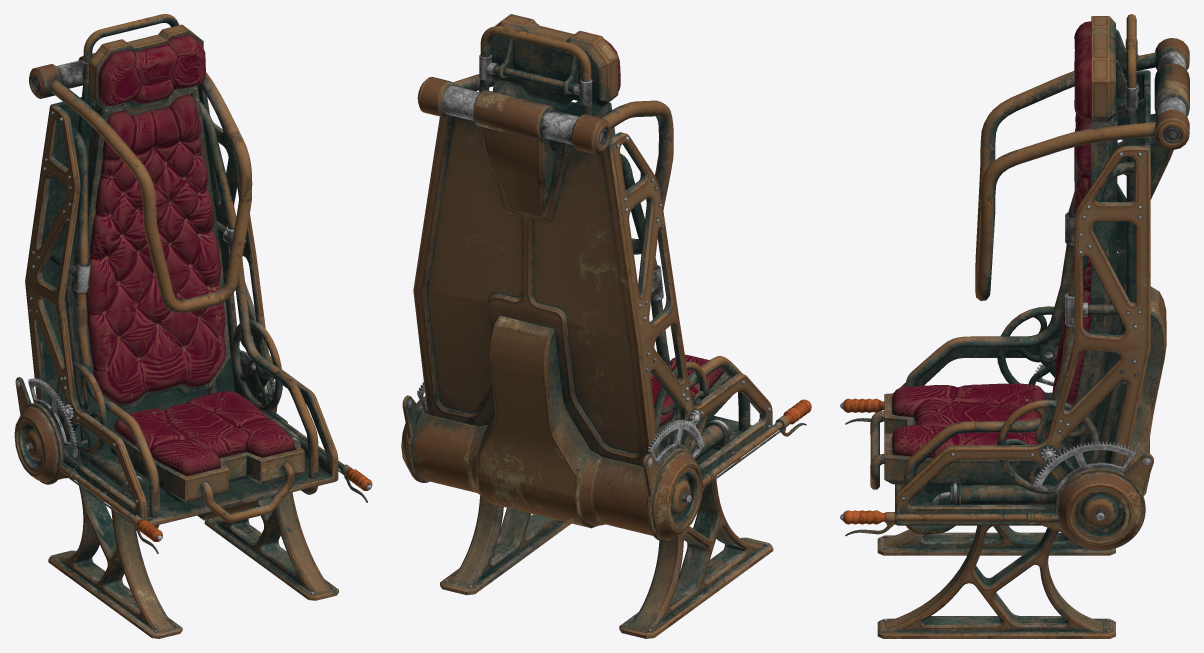
The model's file is SteamPunkChair.obj.
3 views of the same model, side by side, from view 1: azimuth 30°, elevation 25°; view 2: azimuth 150°, elevation 25°; view 3: azimuth 270°, elevation 25° (orthographic). The views are drawn at different scales.
Visible parts, largest first — view 1: Base_Low, Pillow_Low, Detail_Low, Anschnaller, StellRad, Hebel_Low, Hebel, StellNehmer; view 2: Base_Low, Hebel_Low, Anschnaller, Detail_Low, Hebel, StellRad, StellNehmer, Pillow_Low; view 3: Base_Low, Detail_Low, Pillow_Low, Hebel_Low, Anschnaller, Hebel, StellRad, StellNehmer.
Boxes of the visible parts, box(x1,y1,x2,y2) form: Base_Low: box(25, 24, 338, 638); Pillow_Low: box(86, 34, 294, 476); Detail_Low: box(49, 14, 318, 528); Anschnaller: box(29, 59, 252, 313); StellRad: box(56, 319, 282, 454); Hebel_Low: box(14, 53, 277, 520); Hebel: box(15, 348, 372, 541); StellNehmer: box(28, 339, 275, 447); Base_Low: box(413, 14, 773, 638); Hebel_Low: box(401, 90, 770, 539); Anschnaller: box(417, 74, 673, 254); Detail_Low: box(479, 26, 750, 463); Hebel: box(402, 395, 811, 541); StellRad: box(654, 361, 708, 453); StellNehmer: box(417, 382, 704, 464); Pillow_Low: box(537, 24, 722, 426); Base_Low: box(877, 16, 1150, 638); Detail_Low: box(870, 14, 1138, 534); Pillow_Low: box(892, 21, 1091, 457); Hebel_Low: box(901, 63, 1189, 549); Anschnaller: box(975, 38, 1189, 300); Hebel: box(840, 398, 1153, 550); StellRad: box(997, 306, 1100, 494); StellNehmer: box(1032, 363, 1135, 494).
Size of the model in its own units: 0.6033 by 1.22 by 0.6964.
